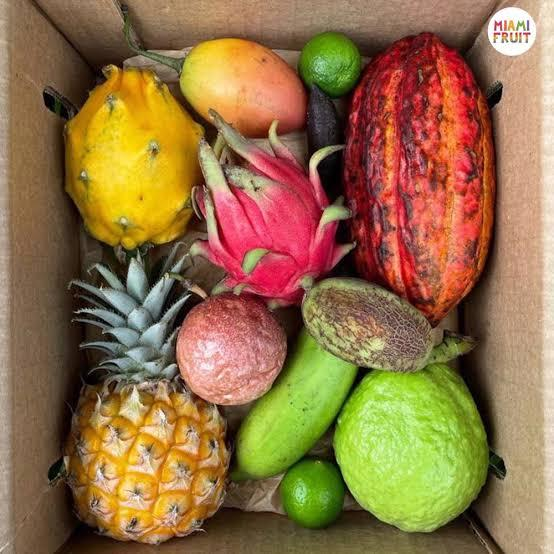thanh_long: (200, 132, 343, 303)
